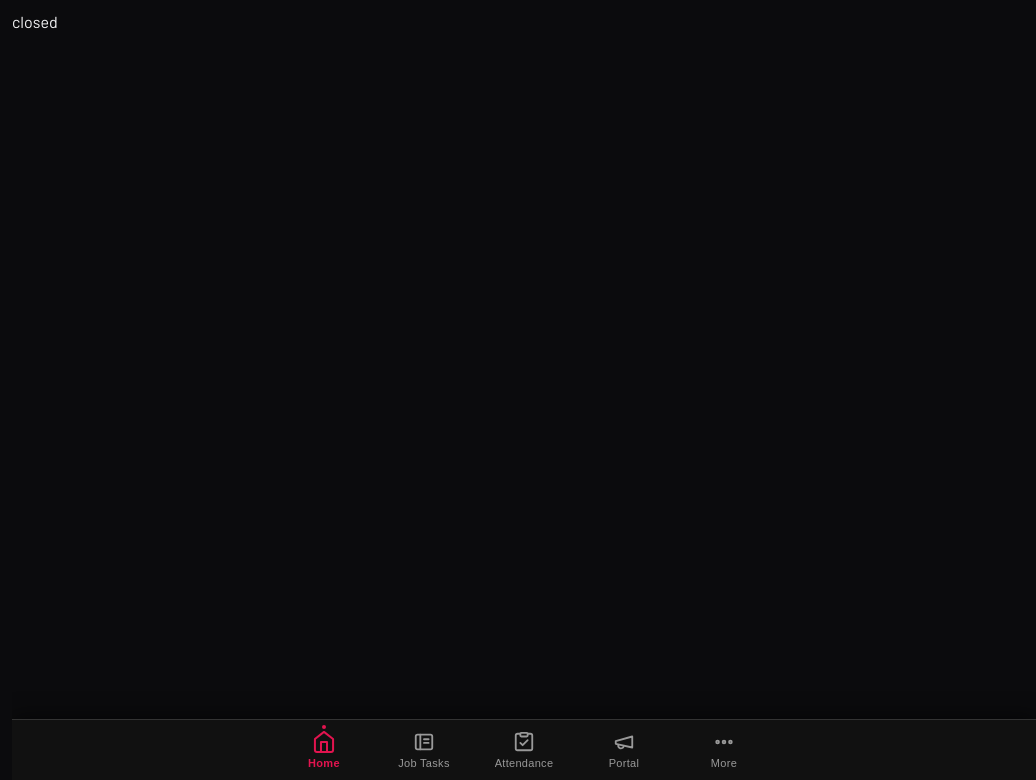
Test case: BottomNavigation › More opens the shared menu sheet rather than navigating
Expected: the text with test id "menu-state" reads "closed", [12,12,58,31]
Click the button "More": (724,750) [674,723,774,777]
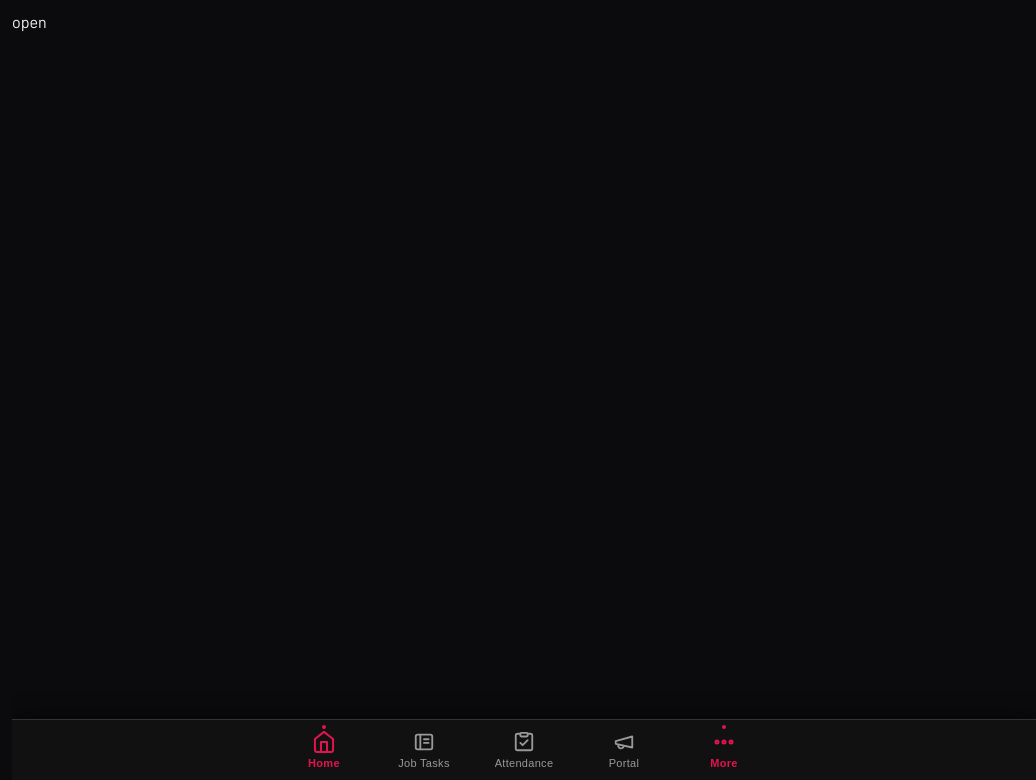
Expected: the text with test id "menu-state" reads "open", [12,12,47,31]
Expected: the button "More" is expanded, [674,723,774,777]
